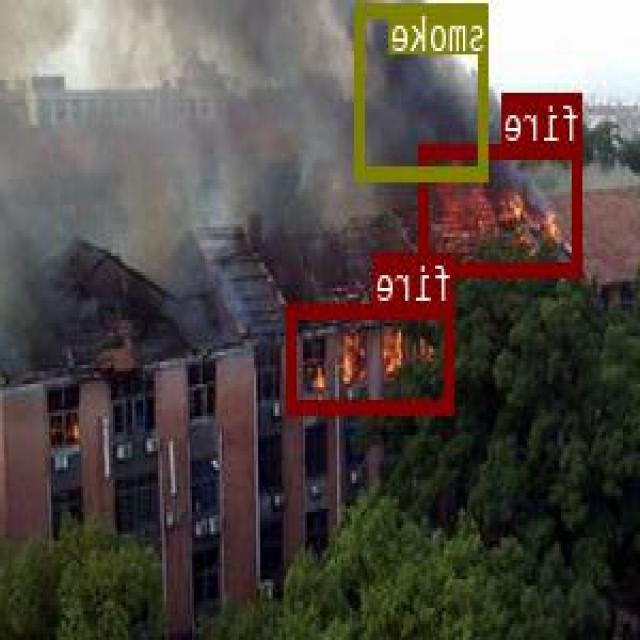fire: (421, 142, 584, 275), (290, 303, 455, 410)
smoke: (357, 1, 490, 178)
